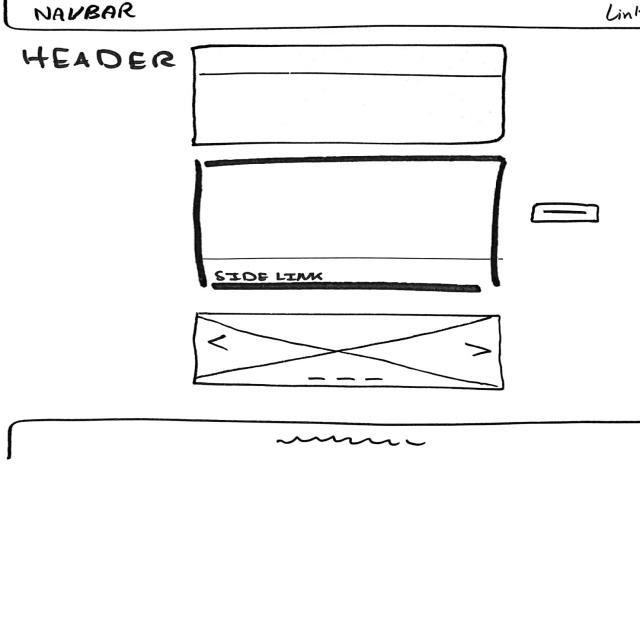container: (190, 156, 508, 294), (185, 40, 512, 148), (1, 0, 640, 31)
icon-button: (526, 200, 603, 224)
image: (189, 310, 506, 392)
label: (20, 43, 178, 71), (34, 0, 140, 26), (214, 268, 328, 282), (602, 2, 640, 24)
text: (275, 434, 431, 448)
